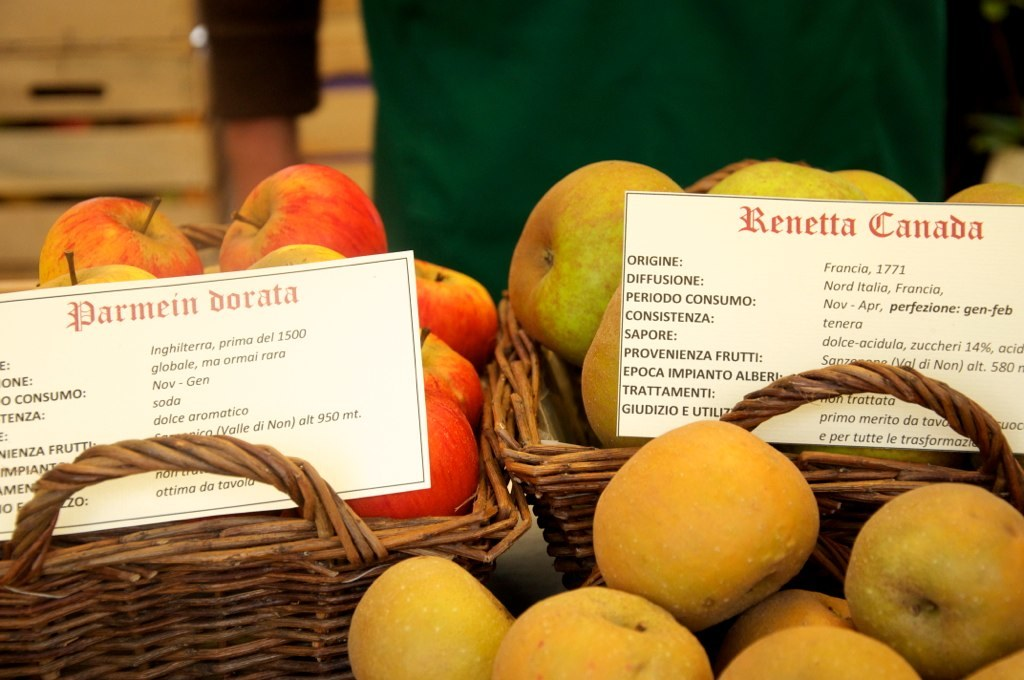Apple: (344, 414, 1022, 678), (33, 163, 499, 515), (504, 156, 1022, 445), (46, 190, 199, 280)
